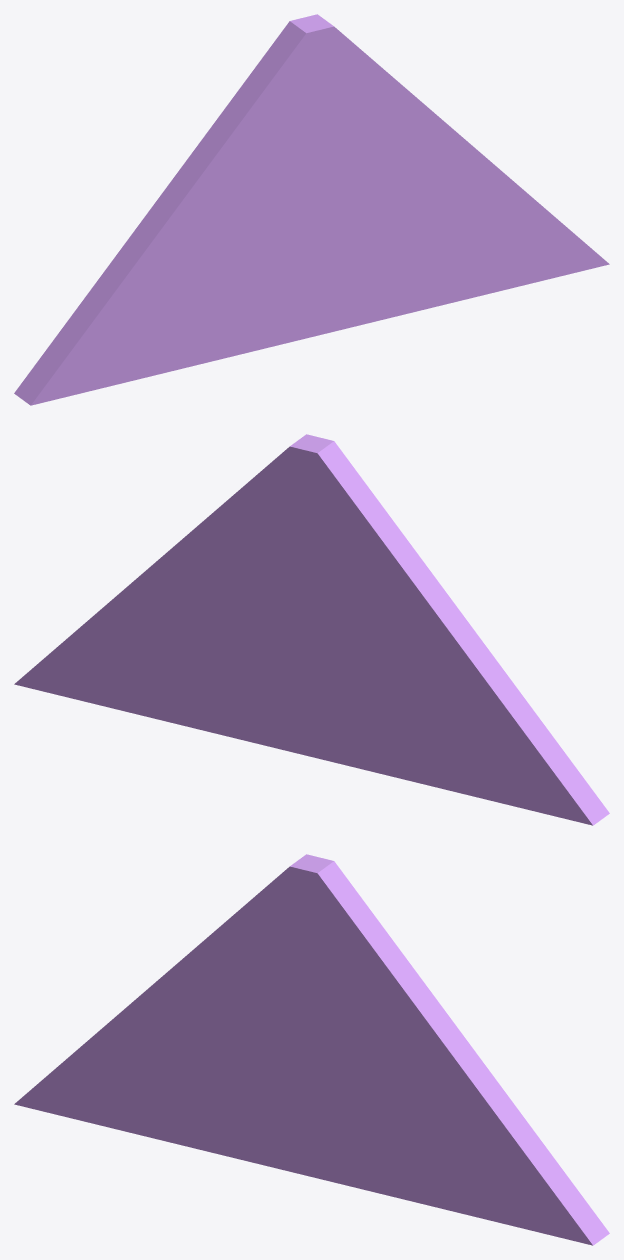
File: Modular Wall Triangle Top 01.fbx
3 views of the same model, one above another, from view 1: azimuth 30°, elevation 25°; view 2: azimuth 150°, elevation 25°; view 3: azimuth 330°, elevation 25° (orthographic).
Visible parts, largest first — view 1: Modular Wall Triangle Top 01; view 2: Modular Wall Triangle Top 01; view 3: Modular Wall Triangle Top 01.
Boxes of the visible parts, x1=… form: Modular Wall Triangle Top 01: x1=14, y1=14, x2=609, y2=405; Modular Wall Triangle Top 01: x1=14, y1=434, x2=609, y2=825; Modular Wall Triangle Top 01: x1=14, y1=854, x2=609, y2=1245.
Size of the model in its own units: 400 by 201 by 20.
